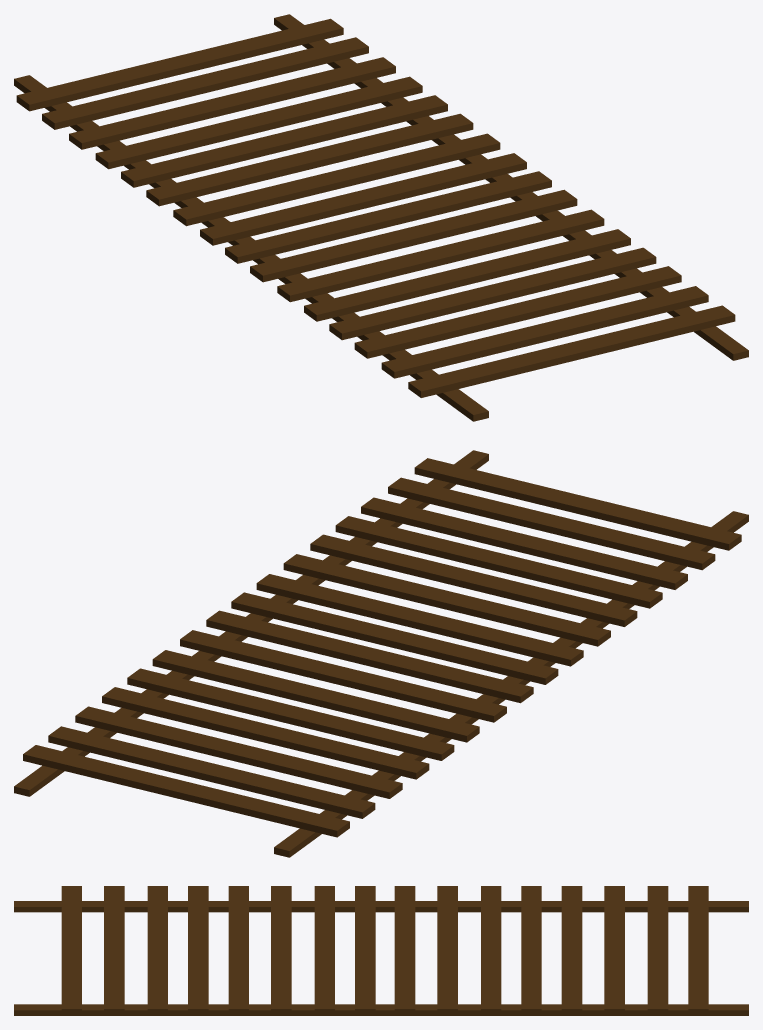
File: canyon bridge.glb
3 renders of one model, top to bottom at view 1: azimuth 30°, elevation 25°; view 2: azimuth 150°, elevation 25°; view 3: azimuth 270°, elevation 25°, orthographic. The views are drawn at different scales.
Visible parts, largest first — view 1: Cube.003; view 2: Cube.003; view 3: Cube.003.
Boxes of the visible parts, left/top/right/bottom form: Cube.003: left=14, top=14, right=748, bottom=421; Cube.003: left=14, top=450, right=748, bottom=857; Cube.003: left=14, top=886, right=748, bottom=1015.
Bounding box in the file's own units: 28.3 × 1.43 × 71.66.
